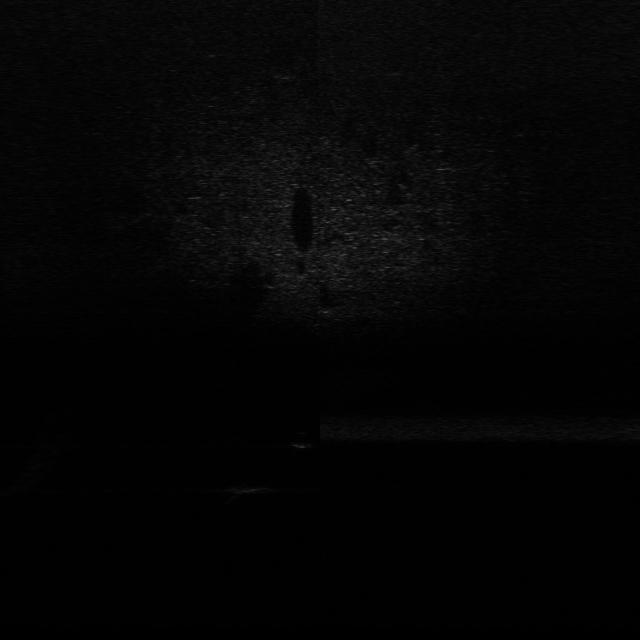ball: (288, 428, 317, 452)
square cage: (222, 478, 276, 497)
